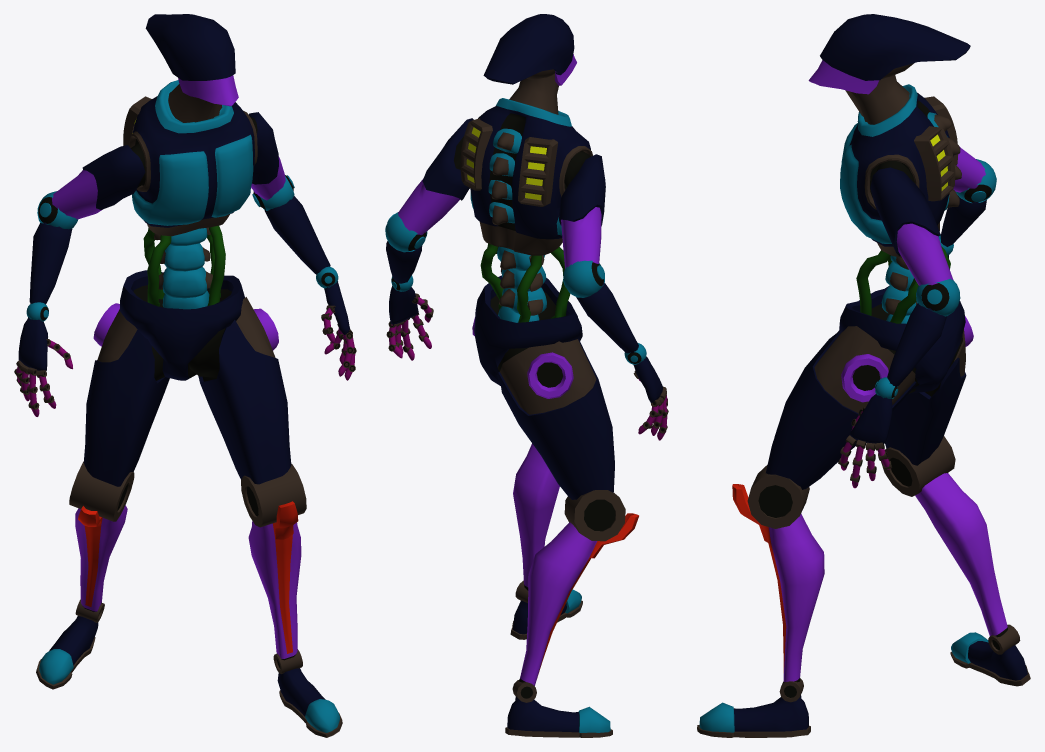
The model's file is OBJ_PersoPose_4.fbx.
The picture shows the model from 3 angles, left to right: view 1: azimuth 30°, elevation 25°; view 2: azimuth 150°, elevation 25°; view 3: azimuth 270°, elevation 25°; orthographic projection. The views are drawn at different scales.
Visible parts, largest first — view 1: OBJ_PersoPose_4; view 2: OBJ_PersoPose_4; view 3: OBJ_PersoPose_4.
Boxes of the visible parts, x1=… form: OBJ_PersoPose_4: x1=14, y1=14, x2=356, y2=737; OBJ_PersoPose_4: x1=385, y1=14, x2=668, y2=737; OBJ_PersoPose_4: x1=697, y1=14, x2=1030, y2=737.
Size of the model in its own units: 34.03 by 72.05 by 31.3.
